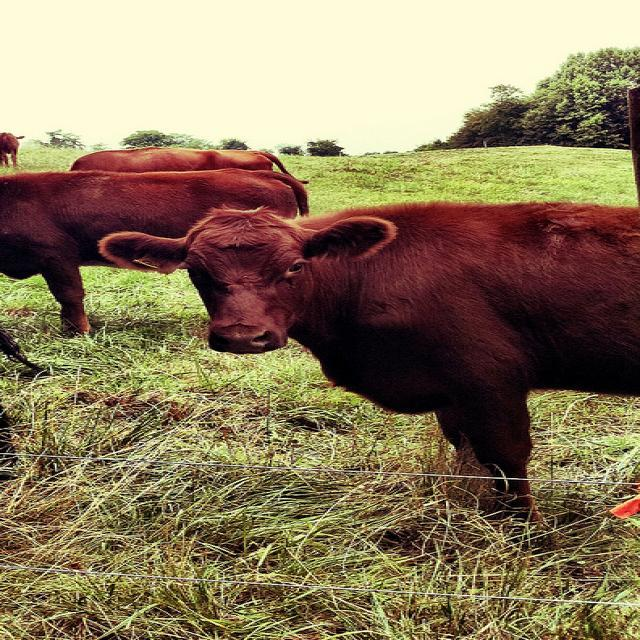cow: (100, 199, 634, 541), (2, 168, 309, 336), (65, 145, 280, 169), (0, 132, 23, 167)
